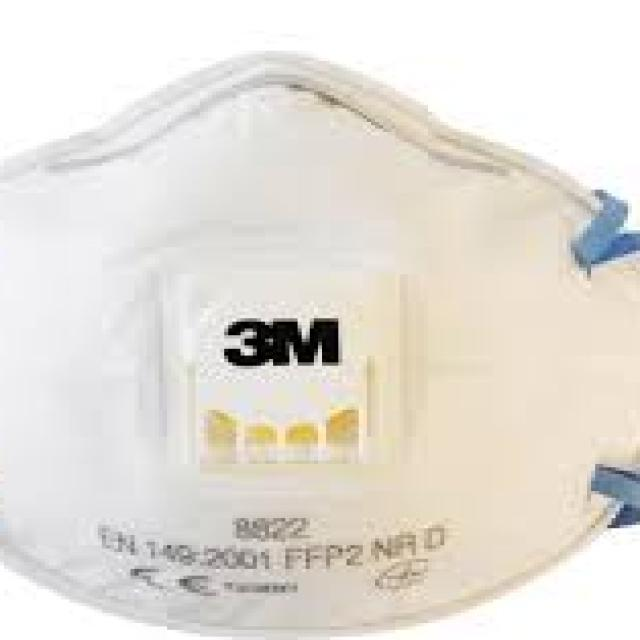organic: (8, 41, 625, 612)
